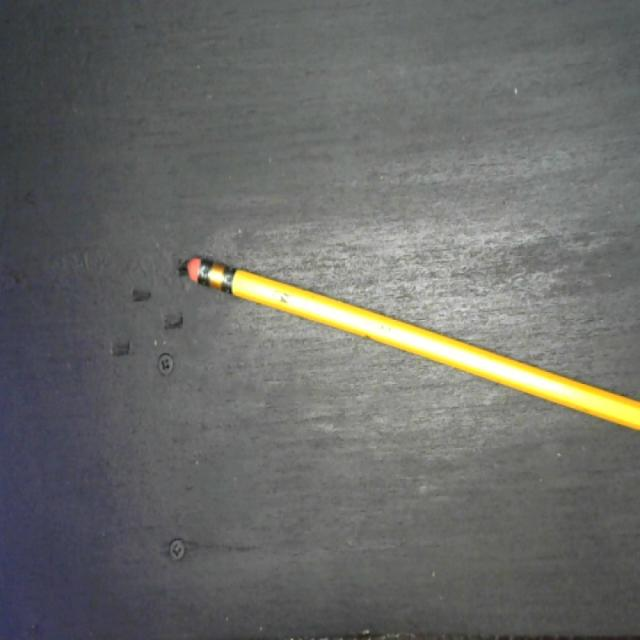biodegradable: (185, 249, 640, 431)
